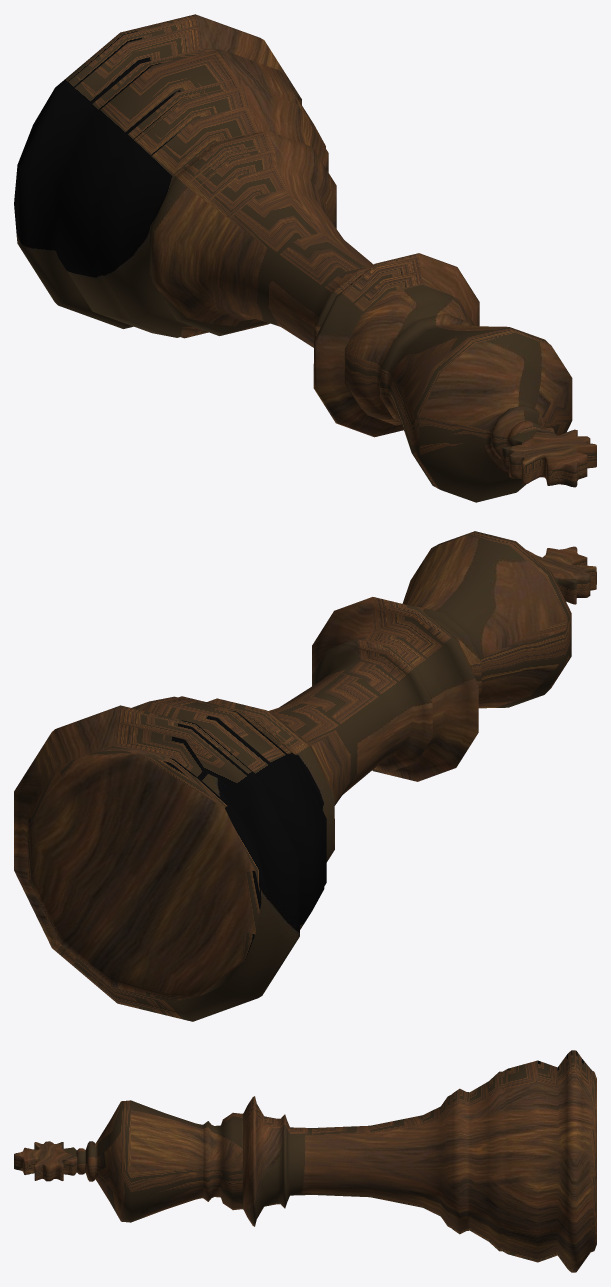
Rendered from Re_Nero_1-5k.obj.
The picture shows the model from 3 angles, top to bottom: view 1: azimuth 30°, elevation 25°; view 2: azimuth 150°, elevation 25°; view 3: azimuth 270°, elevation 25°; orthographic projection. The views are drawn at different scales.
Parts seen in each view (by area): view 1: 12926_Wooden_Chess_King_Side_A_v1_l3; view 2: 12926_Wooden_Chess_King_Side_A_v1_l3; view 3: 12926_Wooden_Chess_King_Side_A_v1_l3.
Boxes of the visible parts, box(x1,y1,x2,y2) form: 12926_Wooden_Chess_King_Side_A_v1_l3: box(14, 14, 596, 502); 12926_Wooden_Chess_King_Side_A_v1_l3: box(14, 531, 596, 1021); 12926_Wooden_Chess_King_Side_A_v1_l3: box(14, 1050, 596, 1272).
Bounding box in the file's own units: 4.38 × 4.35 × 11.61.
1 material, 1 textured.
